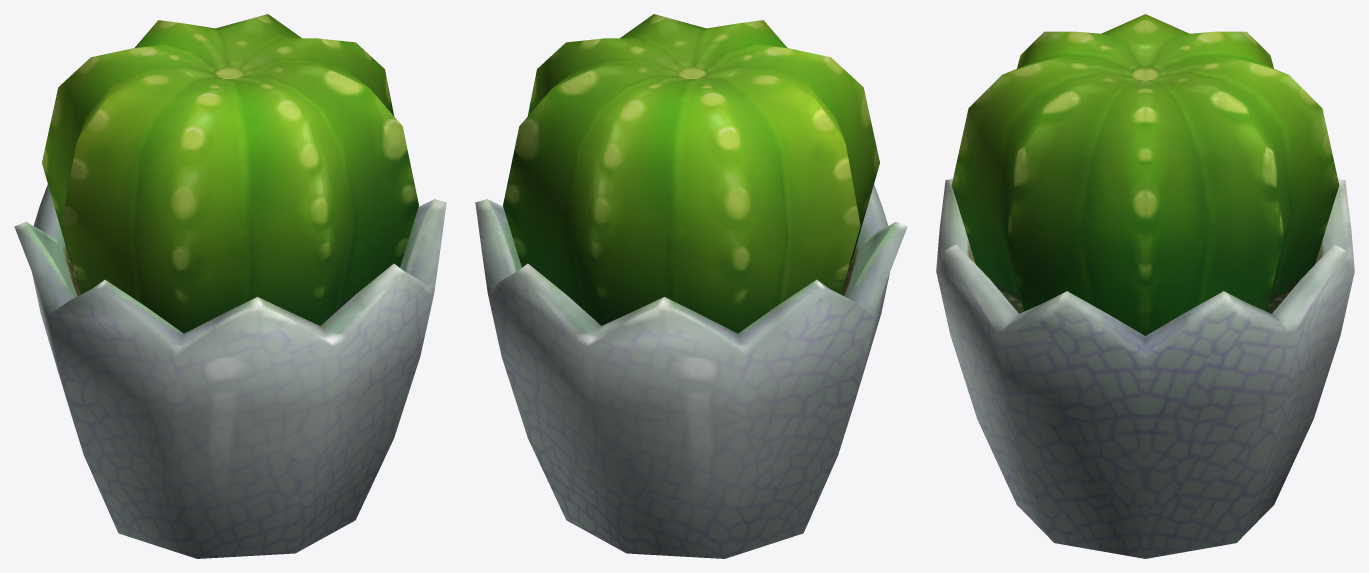
Rendered from cofee_wj_diy01.FBX.
3 views of the same model, side by side, from view 1: azimuth 30°, elevation 25°; view 2: azimuth 150°, elevation 25°; view 3: azimuth 270°, elevation 25° (orthographic).
Visible parts, largest first — view 1: cofee_wj_diy01; view 2: cofee_wj_diy01; view 3: cofee_wj_diy01.
Boxes of the visible parts, box(x1,y1,x2,y2) form: cofee_wj_diy01: box(14, 14, 446, 558); cofee_wj_diy01: box(475, 14, 907, 558); cofee_wj_diy01: box(936, 14, 1354, 558).
Bounding box in the file's own units: 21.59 × 25.25 × 21.6.
1 material, 1 textured.
